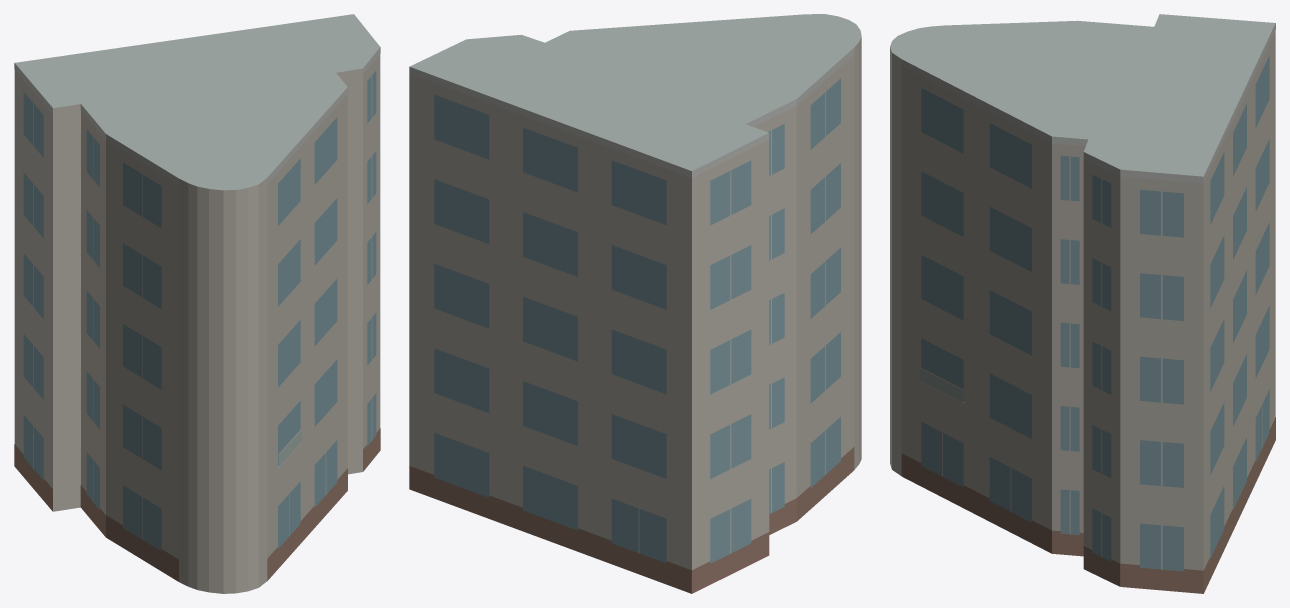
The model's file is survey-upis-32590321.glb.
The picture shows the model from 3 angles, left to right: view 1: azimuth 30°, elevation 25°; view 2: azimuth 150°, elevation 25°; view 3: azimuth 270°, elevation 25°; orthographic projection. The views are drawn at different scales.
Visible parts, largest first — view 1: survey-upis-32590321.tmp; view 2: survey-upis-32590321.tmp; view 3: survey-upis-32590321.tmp.
Boxes of the visible parts, x1,y1,x2,y2 form: survey-upis-32590321.tmp: (14,14,380,593); survey-upis-32590321.tmp: (409,14,861,593); survey-upis-32590321.tmp: (890,14,1275,593).
Size of the model in its own units: 12.52 by 14.97 by 12.55.
